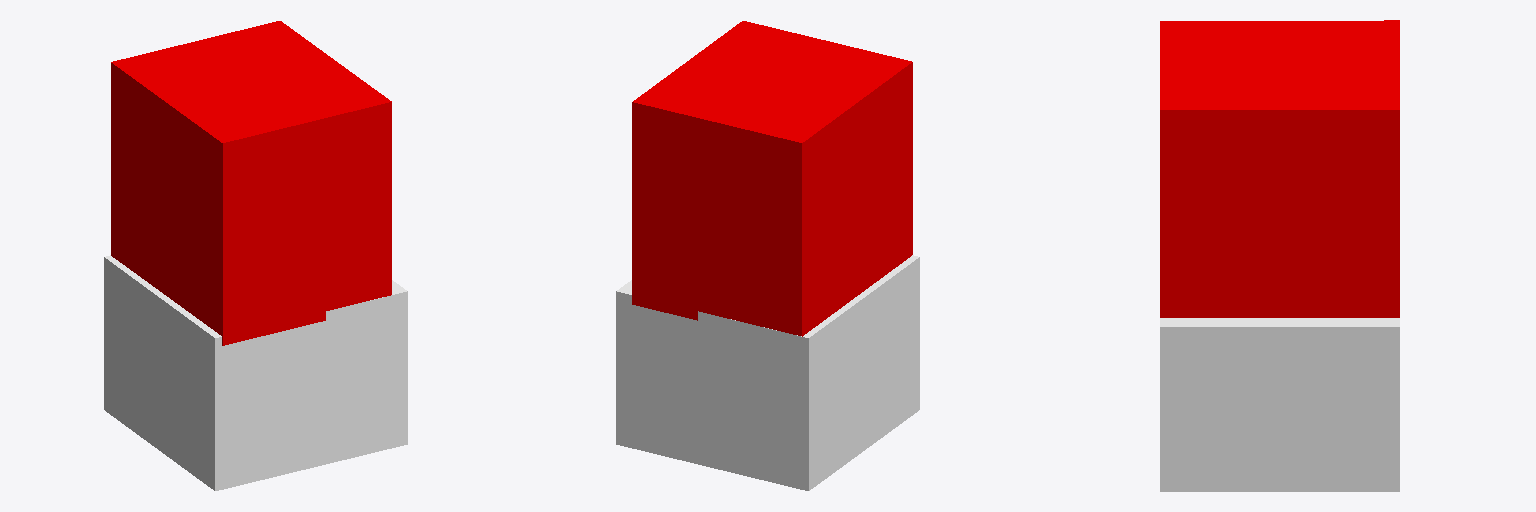
The robot description file, URDF, robot "hrp2_trunk_flexible":
<robot name="hrp2_trunk_flexible">
  <link name="base_link"/>
  <joint name="WAIST" type="fixed">
    <parent link="base_link"/>
    <child link="BODY"/>
    <origin rpy="0 0 0" xyz="0 0 0"/>
  </joint>
  <link name="BODY">   
    <visual>
      <origin xyz="0 0 0" rpy="0 0 0" />
      <geometry>
        <mesh filename="package://hpp-rbprm-corba/meshes/hrp2_trunk_body.stl"/>
      </geometry>
      <material name="red">
        <color rgba="1 1 1 1"/>
      </material>
    </visual>
    <collision>
      <origin xyz="0 0 0" rpy="0 0 0" />
      <geometry>
        <mesh filename="package://hpp-rbprm-corba/meshes/hrp2_trunk_body.stl"/>
      </geometry>
    </collision>
  </link>
  <!-- Chest -->
  <joint name="CHEST_JOINT0" type="revolute">
    <parent link="BODY"/>
    <child link="CHEST_LINK0"/>
    <origin rpy="0 0 0" xyz="0.032 0 0.3507"/>
    <axis xyz="0 0 1"/>
    <limit effort="151.1" lower="-0.785398" upper="0.785398" velocity="4.40217"/>
  </joint>
  <link name="CHEST_LINK0">
  </link>
  <joint name="CHEST_JOINT1" type="revolute">
    <parent link="CHEST_LINK0"/>
    <child link="torso"/>
    <origin rpy="0 0 0" xyz="0 0 0"/>
    <axis xyz="0 1 0"/>
    <limit effort="278.9" lower="-0.0872665" upper="1.0472" velocity="2.3963"/>
  </joint>  
  <link name="torso">  
    <visual>
      <origin xyz="0 0 0" rpy="0 0 0.003" />
      <geometry>
        <mesh filename="package://hpp-rbprm-corba/meshes/hrp2_trunk_torso.stl"/>
      </geometry>
      <material name="red">
        <color rgba="1 0 0 1"/>
      </material>
    </visual>
    <collision>
      <origin xyz="0 0 0" rpy="0 0 0.003" />
      <geometry>
        <mesh filename="package://hpp-rbprm-corba/meshes/hrp2_trunk_torso.stl"/>
      </geometry>
    </collision>
  </link>
</robot>

--- What the picture shows (computed from the rendered views, not written in the file) ---
3 views of the same robot in one strip: view 1: azimuth 30°, elevation 25°; view 2: azimuth 150°, elevation 25°; view 3: azimuth 270°, elevation 25° (orthographic).
Model hrp2_trunk_flexible with 4 links and 3 joints (2 revolute, 1 fixed), rooted at base_link, posed all joints at 0.
Links seen in each view (by area): view 1: torso, BODY; view 2: torso, BODY; view 3: torso, BODY.
Boxes of the visible links, x1,y1,x2,y2 form: torso: (111, 21, 391, 345); BODY: (104, 255, 407, 490); torso: (632, 21, 912, 336); BODY: (616, 255, 919, 490); torso: (1160, 20, 1399, 317); BODY: (1160, 318, 1399, 491).
Size in the robot's own frame: 0.4274 by 0.4286 by 0.7345 metres.
Meshes: 2 distinct files referenced, 2 mesh visuals loaded (2 binary STL).